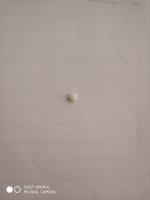Yuvarlak Buskopan: (66, 91, 78, 102)
